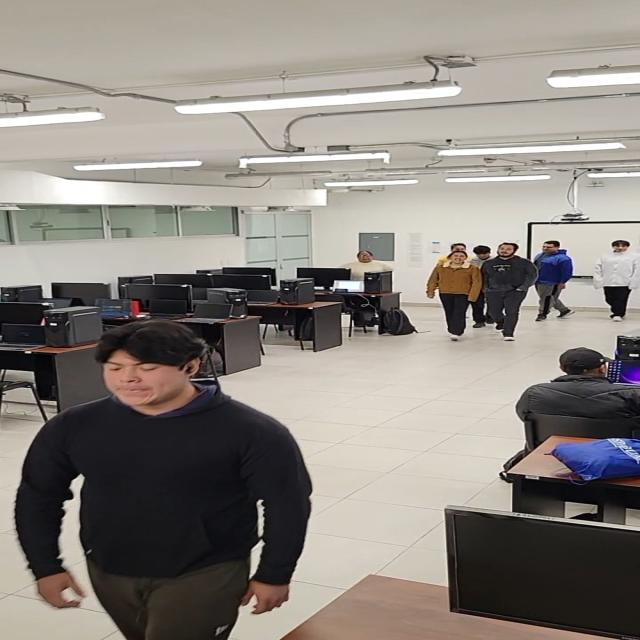Persona: (0, 323, 315, 640), (479, 242, 540, 341), (426, 250, 482, 342), (592, 239, 640, 321), (533, 240, 578, 322), (434, 241, 470, 264), (468, 244, 496, 268)
